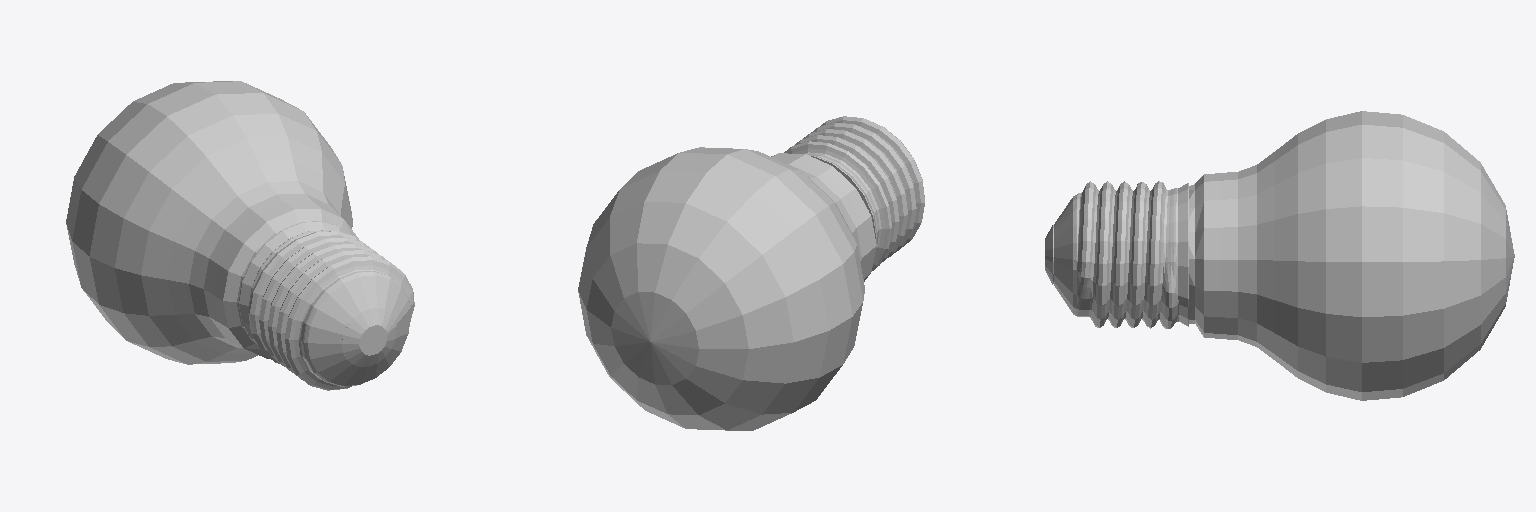
File: light.obj
3 renders of one model, left to right at view 1: azimuth 30°, elevation 25°; view 2: azimuth 150°, elevation 25°; view 3: azimuth 270°, elevation 25°, orthographic.
Parts seen in each view (by area): view 1: Glass_Mesh_Glass_Mesh.006, ScrewPart_Mesh_ScrewPart_Mesh.005; view 2: Glass_Mesh_Glass_Mesh.006, ScrewPart_Mesh_ScrewPart_Mesh.005; view 3: Glass_Mesh_Glass_Mesh.006, ScrewPart_Mesh_ScrewPart_Mesh.005.
Boxes of the visible parts, box(x1,y1,x2,y2) form: Glass_Mesh_Glass_Mesh.006: box(66, 81, 358, 364); ScrewPart_Mesh_ScrewPart_Mesh.005: box(239, 221, 414, 390); Glass_Mesh_Glass_Mesh.006: box(578, 147, 876, 430); ScrewPart_Mesh_ScrewPart_Mesh.005: box(784, 116, 924, 270); Glass_Mesh_Glass_Mesh.006: box(1189, 111, 1514, 400); ScrewPart_Mesh_ScrewPart_Mesh.005: box(1045, 181, 1188, 328).
Size of the model in its own units: 0.5888 by 0.5888 by 0.9527.